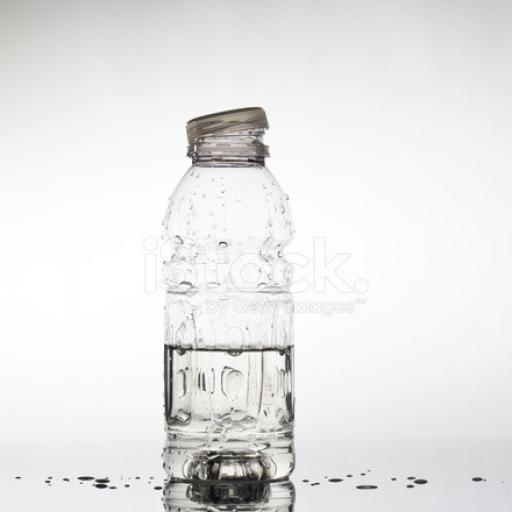bottle: (140, 103, 320, 489)
